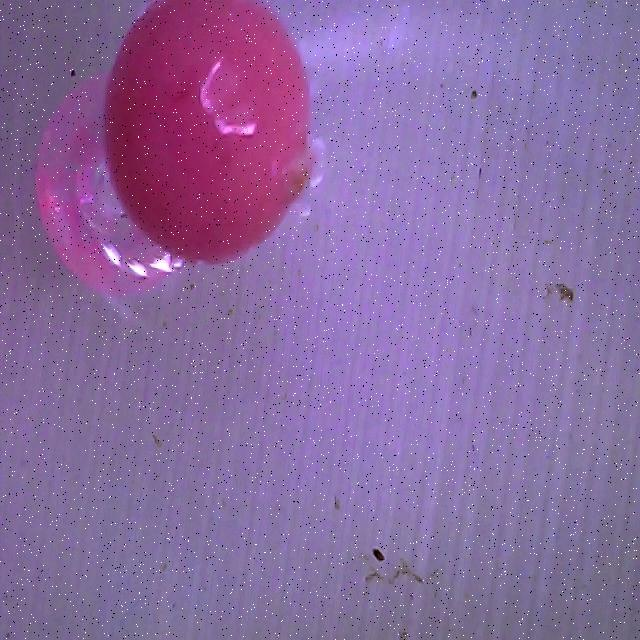beads: (104, 3, 311, 262), (0, 73, 189, 318)
